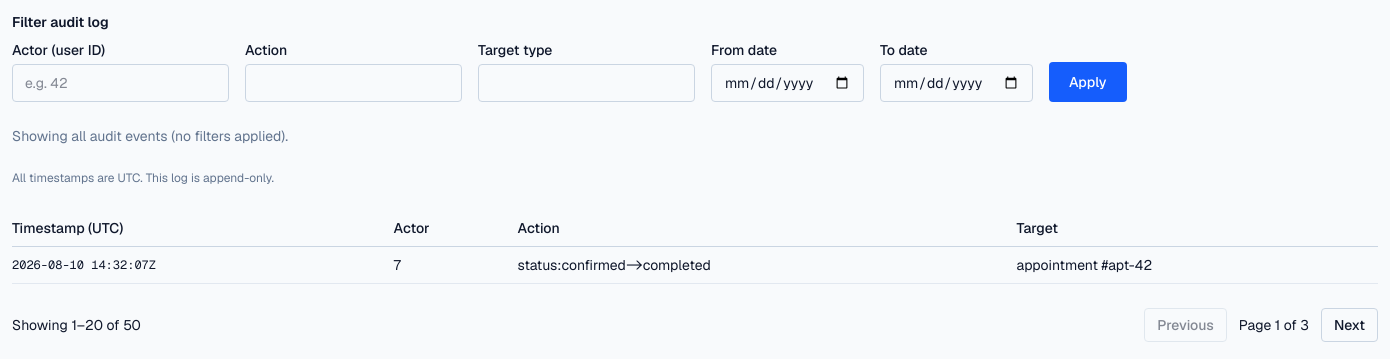
Test case: AuditLogViewer › re-fetches page 1 with all filters cleared from the empty state's Clear filters action
Expected: the table is shown, [12,210,1378,284]
Type "7" into the field labelled "Actor (user ID)" at x=120, y=83, box [12,64,229,102]
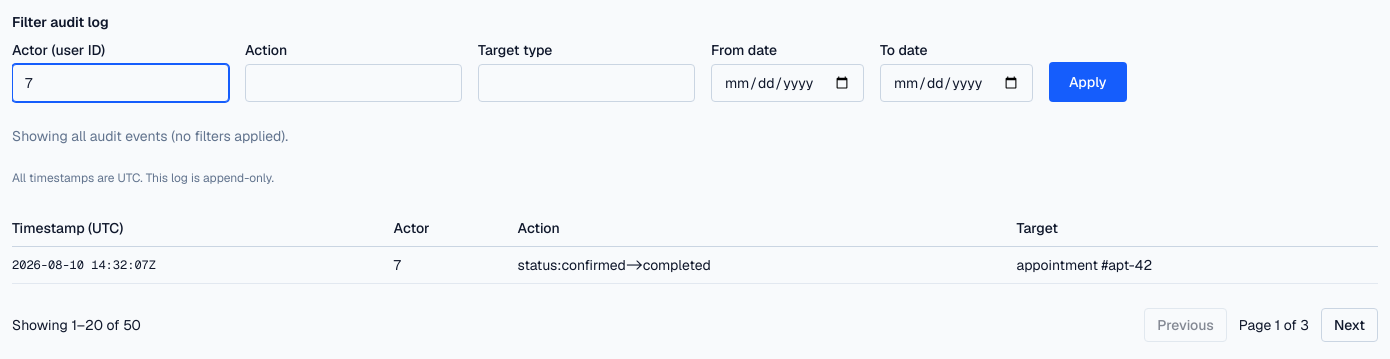
Click the button "Apply" at x=1088, y=82, box [1049,62,1126,102]
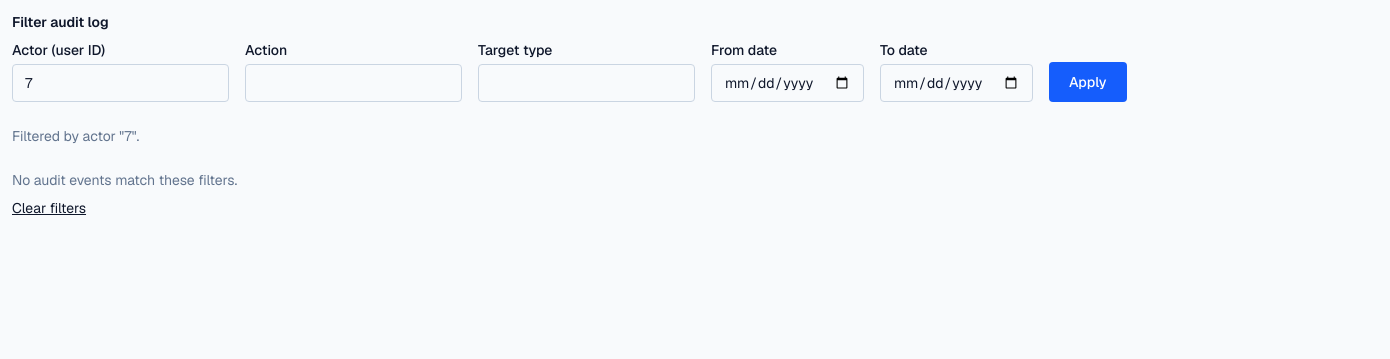
Now the text "No audit events match these filters." is shown, box [12,170,237,190]
Click the button "Clear filters" at x=49, y=208, box [12,198,86,218]
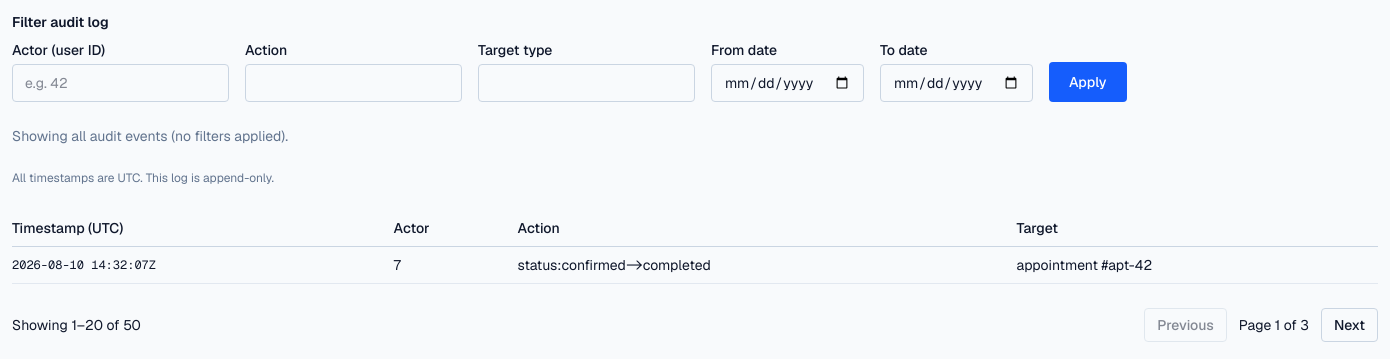
Now the field labelled "Actor (user ID)" is empty, box [12,64,229,102]
